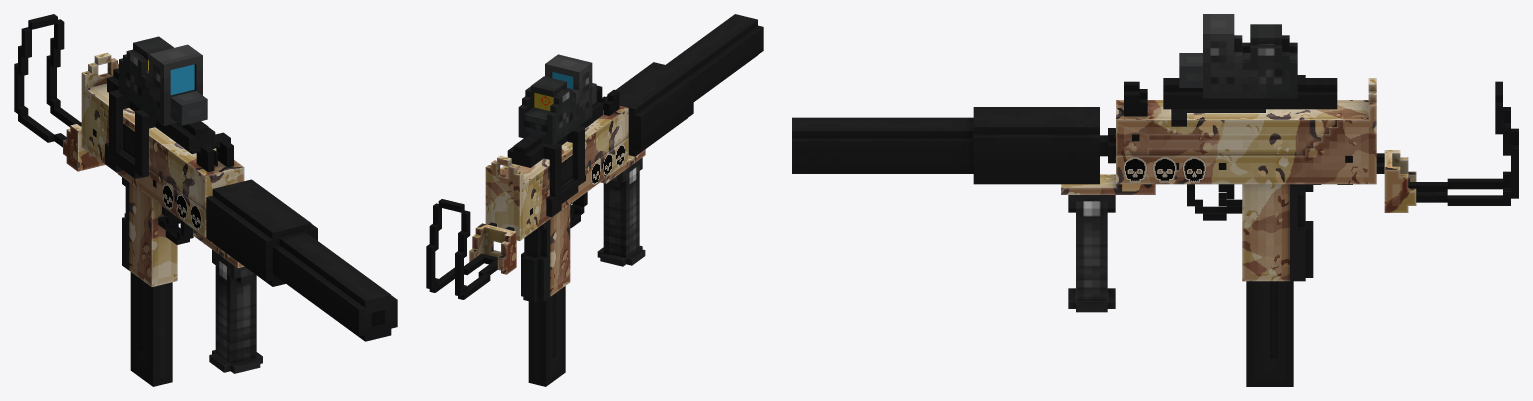
Rendered from RD_MAC10_DESERT_STORM.glb.
3 views of the same model, side by side, from view 1: azimuth 30°, elevation 25°; view 2: azimuth 150°, elevation 25°; view 3: azimuth 270°, elevation 25° (orthographic). The views are drawn at different scales.
Parts seen in each view (by area): view 1: MAC10, MAC10_SILENCER, GRIP1, MAC10_PLANK (×2), MAC10_CLIP, MAC10_BUTT_STOCK_P2, SCOPE_EOTECH, SCOPE_HOLOSUN, MAC10_BUTT_STOCK_P1, MAC10_BODY_GRIP; view 2: MAC10, MAC10_SILENCER, MAC10_PLANK (×2), GRIP1, SCOPE_EOTECH, MAC10_CLIP, MAC10_BUTT_STOCK_P2, SCOPE_HOLOSUN, MAC10_BUTT_STOCK_P1, MAC10_BODY_GRIP; view 3: MAC10, MAC10_SILENCER, MAC10_CLIP, SCOPE_EOTECH, GRIP1, SCOPE_HOLOSUN, MAC10_BUTT_STOCK_P2, MAC10_PLANK, MAC10_BUTT_STOCK_P1, MAC10_BODY_GRIP.
Boxes of the visible parts, left/top/right/bottom form: MAC10: left=81, top=52, right=244, bottom=286; MAC10_SILENCER: left=206, top=179, right=397, bottom=341; GRIP1: left=209, top=249, right=262, bottom=373; MAC10_PLANK (×2): left=105, top=68, right=215, bottom=178; MAC10_CLIP: left=130, top=272, right=172, bottom=386; MAC10_BUTT_STOCK_P2: left=14, top=14, right=81, bottom=147; SCOPE_EOTECH: left=119, top=36, right=207, bottom=125; SCOPE_HOLOSUN: left=145, top=44, right=202, bottom=125; MAC10_BUTT_STOCK_P1: left=63, top=124, right=105, bottom=171; MAC10_BODY_GRIP: left=193, top=229, right=244, bottom=267; MAC10: left=485, top=85, right=628, bottom=302; MAC10_SILENCER: left=605, top=14, right=763, bottom=156; MAC10_PLANK (×2): left=507, top=96, right=602, bottom=217; GRIP1: left=597, top=157, right=645, bottom=266; SCOPE_EOTECH: left=518, top=76, right=596, bottom=145; MAC10_CLIP: left=528, top=286, right=565, bottom=386; MAC10_BUTT_STOCK_P2: left=426, top=199, right=497, bottom=299; SCOPE_HOLOSUN: left=545, top=54, right=592, bottom=135; MAC10_BUTT_STOCK_P1: left=469, top=222, right=516, bottom=274; MAC10_BODY_GRIP: left=600, top=149, right=645, bottom=183; MAC10: left=1100, top=78, right=1376, bottom=281; MAC10_SILENCER: left=792, top=107, right=1099, bottom=184; MAC10_CLIP: left=1246, top=281, right=1293, bottom=386; SCOPE_EOTECH: left=1179, top=24, right=1297, bottom=98; GRIP1: left=1068, top=195, right=1115, bottom=312; SCOPE_HOLOSUN: left=1203, top=14, right=1265, bottom=98; MAC10_BUTT_STOCK_P2: left=1408, top=81, right=1518, bottom=205; MAC10_PLANK: left=1163, top=75, right=1337, bottom=109; MAC10_BUTT_STOCK_P1: left=1376, top=150, right=1416, bottom=212; MAC10_BODY_GRIP: left=1061, top=174, right=1155, bottom=194.
Bounding box in the file's own units: 0.0886 × 0.492 × 0.9054.
Materials: 6 (6 with a texture image).
